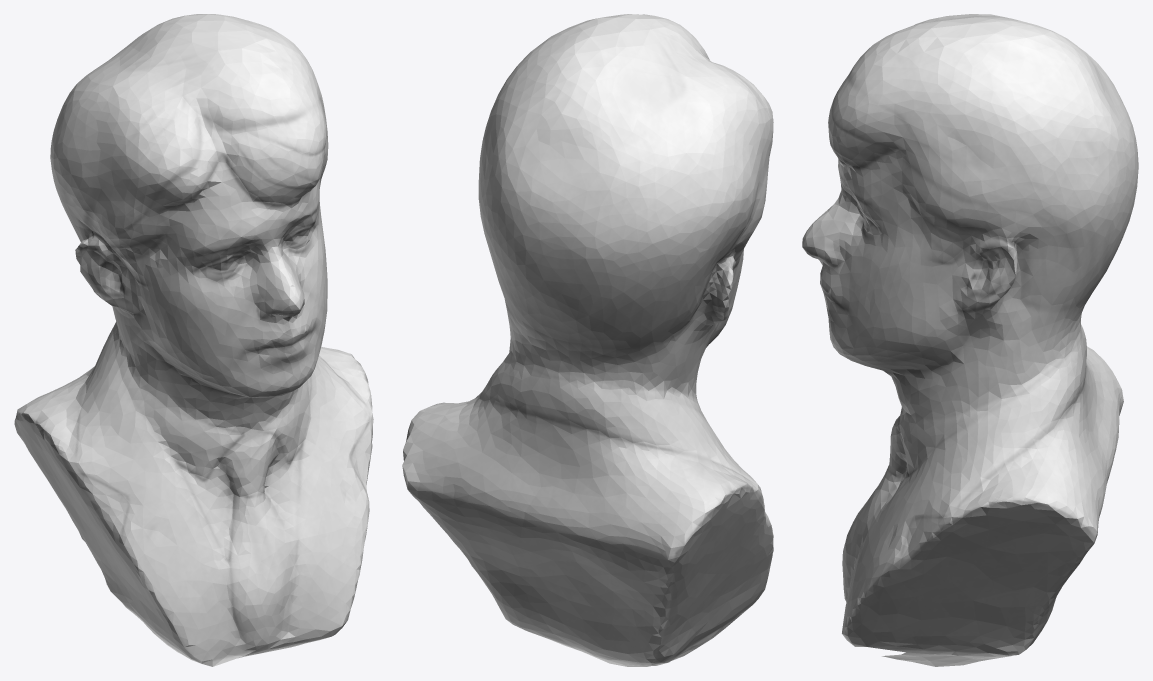
The model's file is person.glb.
3 views of the same model, side by side, from view 1: azimuth 30°, elevation 25°; view 2: azimuth 150°, elevation 25°; view 3: azimuth 270°, elevation 25° (orthographic). The views are drawn at different scales.
Size of the model in its own units: 0.2314 by 0.4308 by 0.2101.
Materials: 1 (1 with a texture image).
